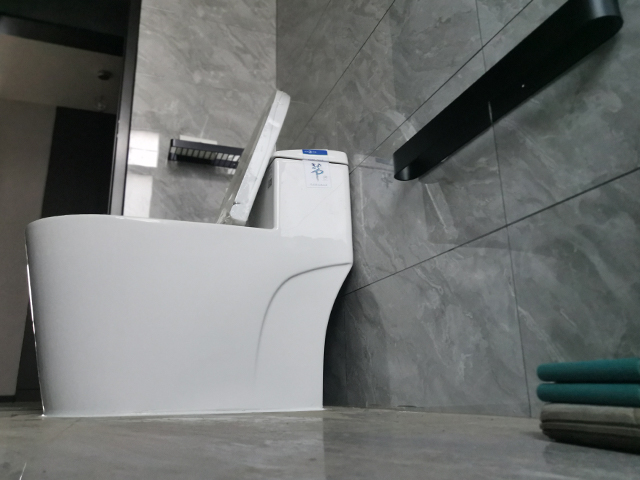closestool: (22, 88, 357, 420)
